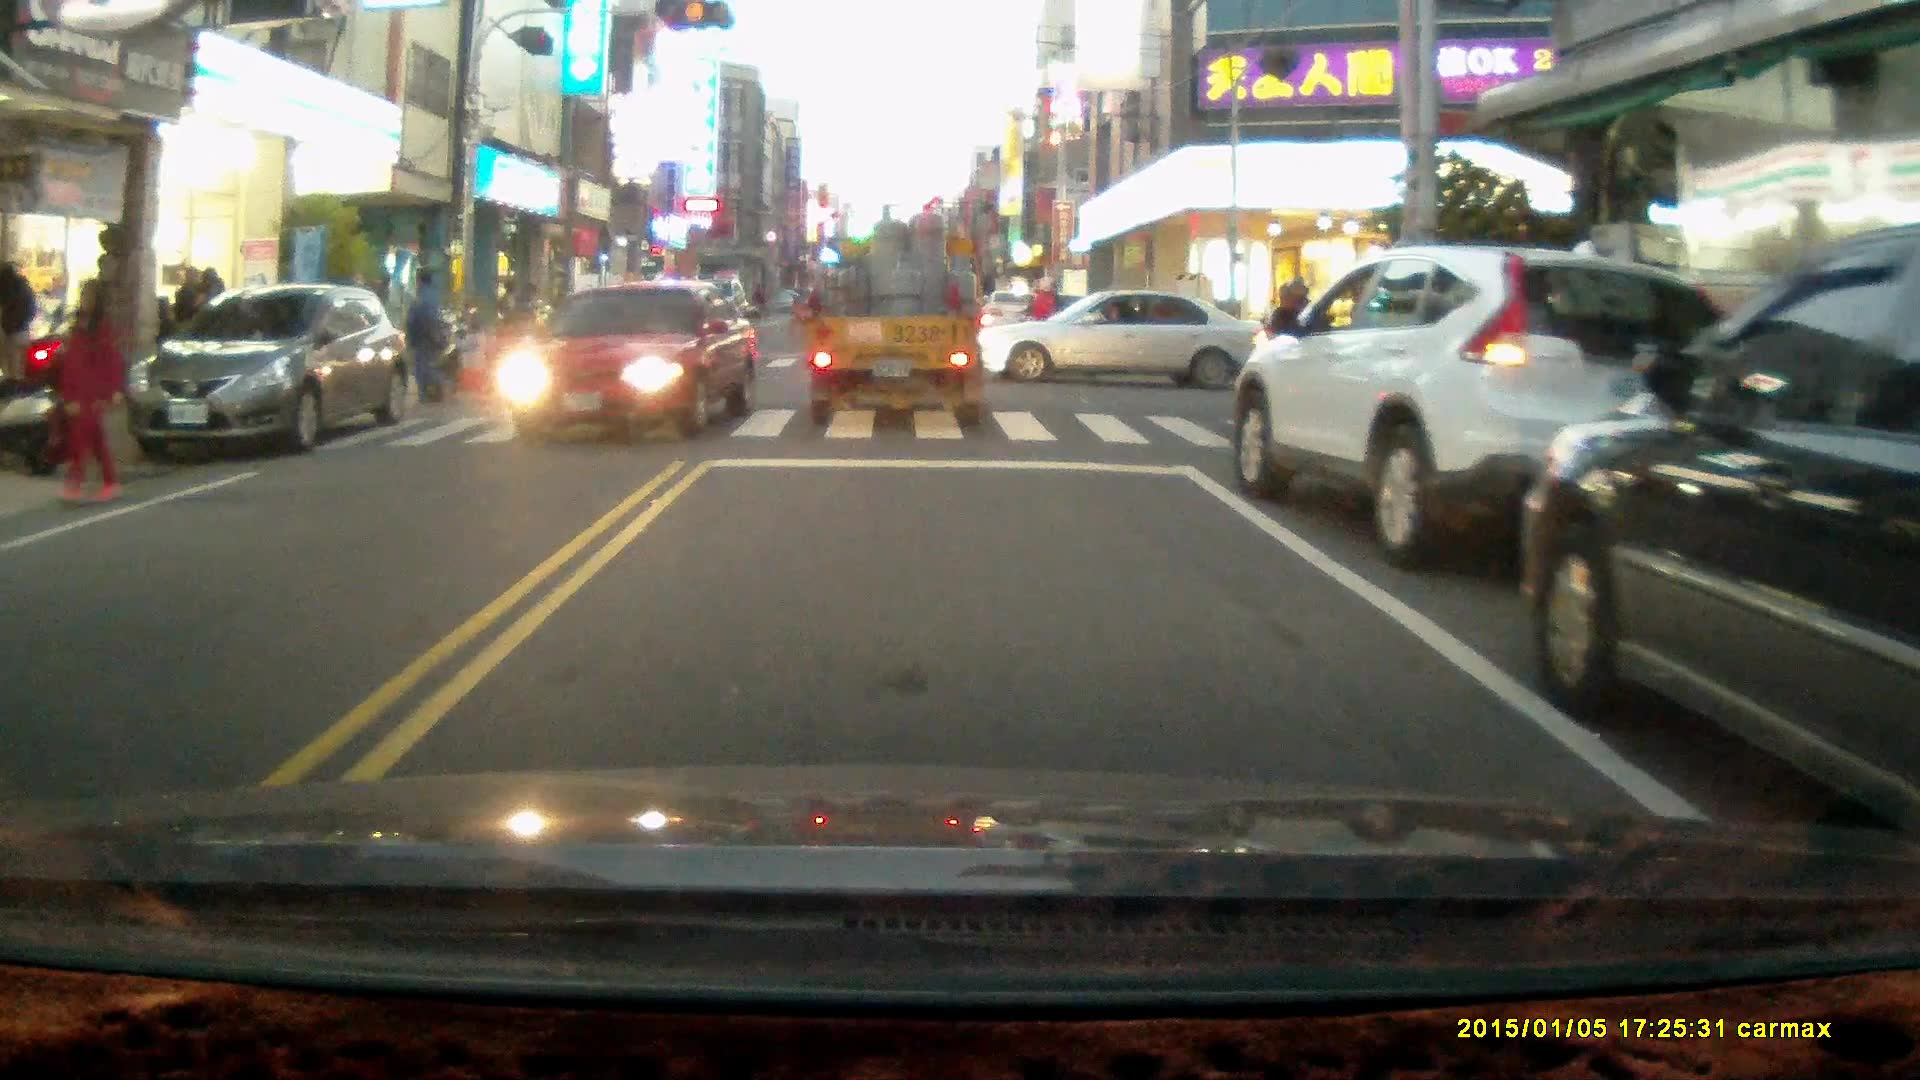pedestrian: (51, 276, 129, 509), (400, 265, 447, 404), (2, 261, 36, 395), (449, 318, 488, 402)
rider: (1004, 270, 1090, 360)
vehicle: (1525, 230, 1920, 840), (1231, 247, 1777, 572), (129, 286, 408, 465), (806, 195, 984, 442), (495, 280, 758, 443), (972, 290, 1271, 396)
